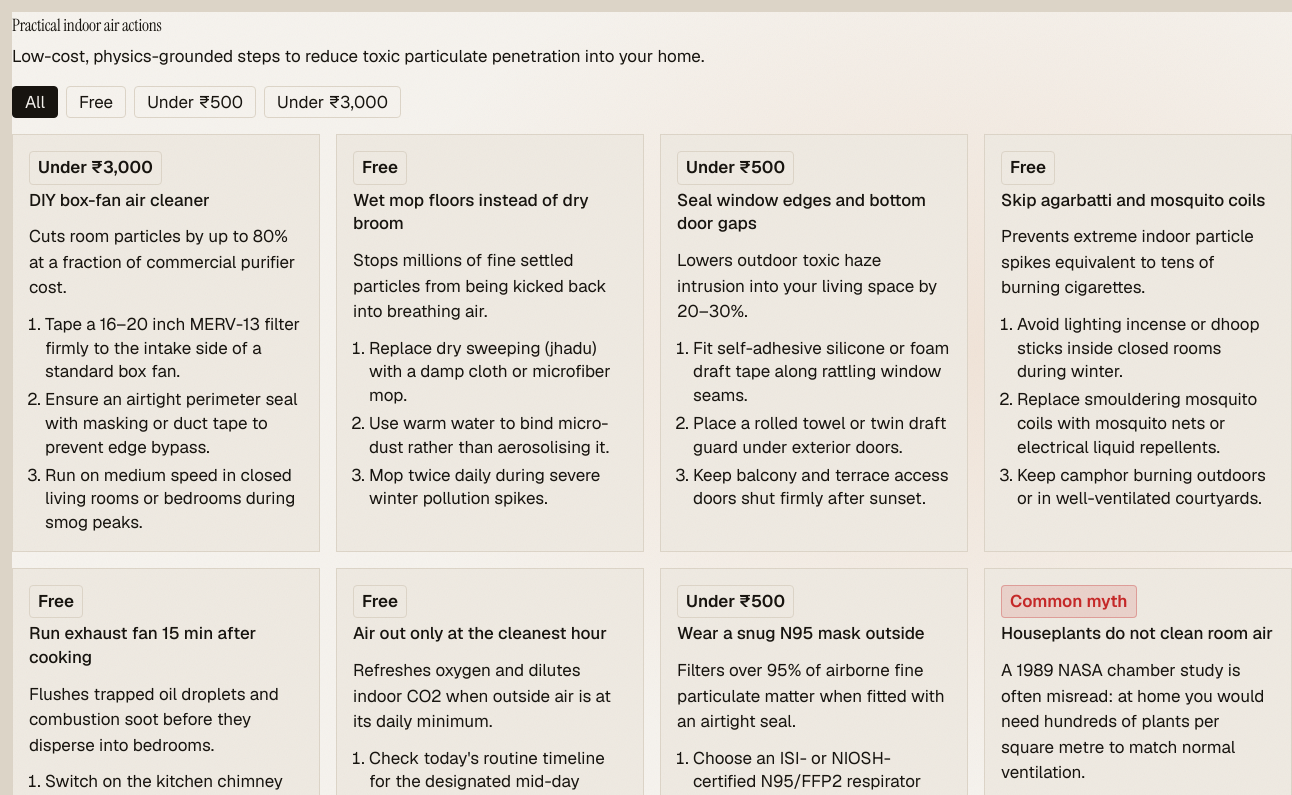
Test: Indoor Components › IndoorHacks › filters cards and supports routine jump link
Later steps or results of the test are not shown.
Step 1. Click the button "Free" → (96, 102), box [66, 86, 126, 118]
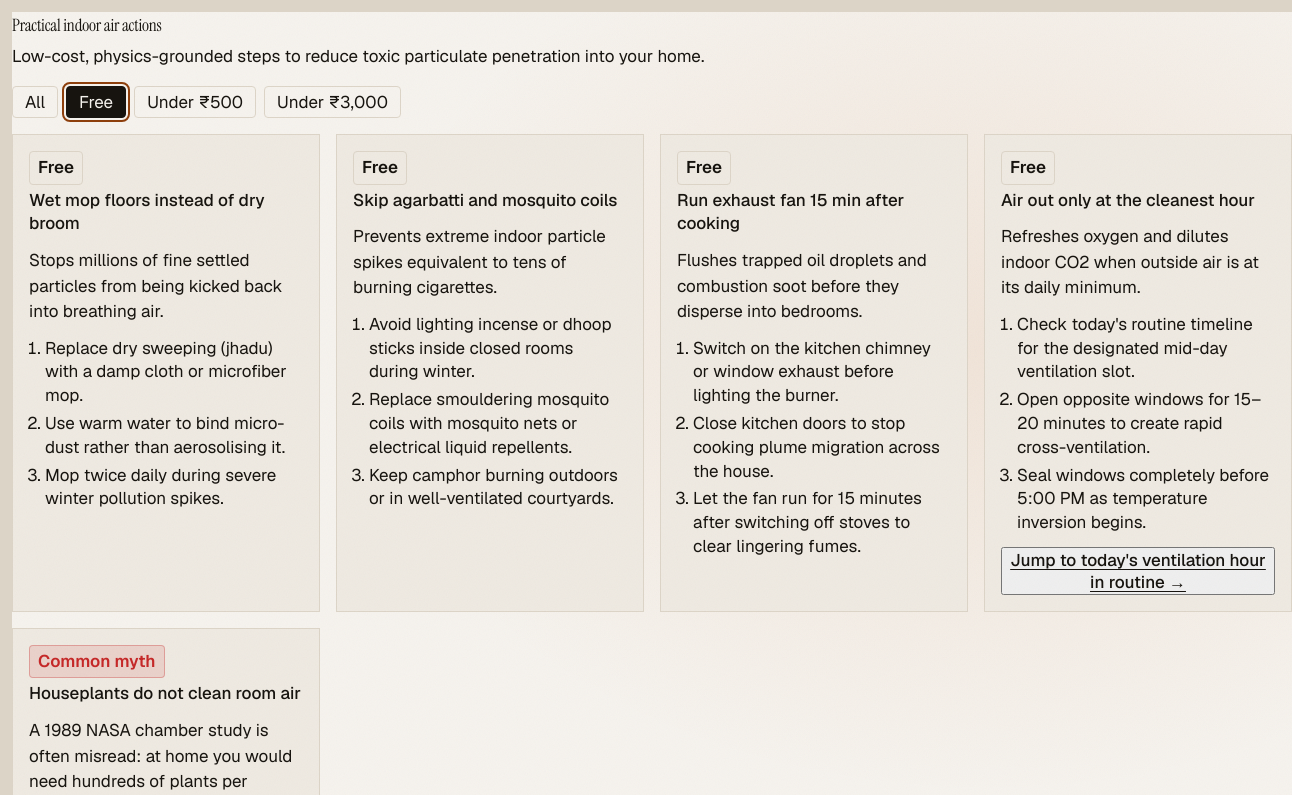
Expected: the heading "Wet mop floors instead of dry broom" is shown, [29, 189, 303, 236]
Expected: the heading "DIY box-fan air cleaner" is gone
